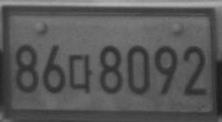0: (126, 44, 150, 95)
2: (182, 44, 207, 96)
6: (41, 44, 67, 93)
8: (14, 43, 39, 93), (98, 45, 123, 95)
9: (153, 44, 178, 94)
다: (68, 53, 92, 95)
